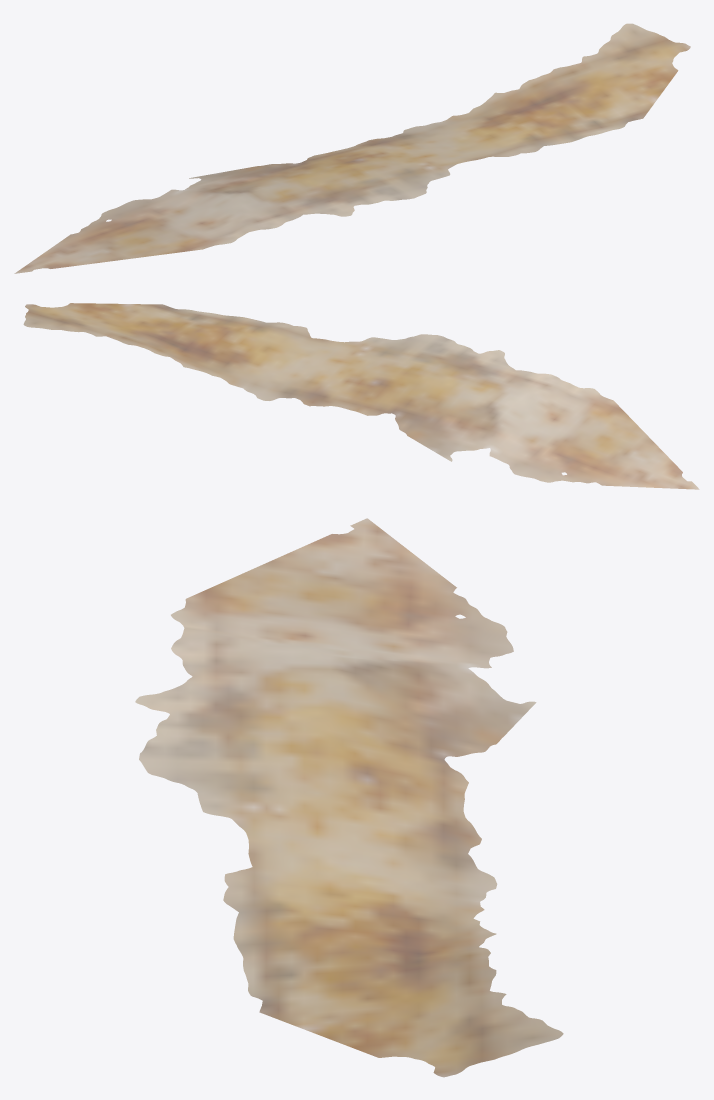
The model's file is SM_Paper_005.fbx.
3 renders of one model, top to bottom at view 1: azimuth 30°, elevation 25°; view 2: azimuth 150°, elevation 25°; view 3: azimuth 270°, elevation 25°, orthographic. The views are drawn at different scales.
Visible parts, largest first — view 1: SM_Paper_005; view 2: SM_Paper_005; view 3: SM_Paper_005.
Boxes of the visible parts, left/top/right/bottom form: SM_Paper_005: left=14, top=23, right=690, bottom=273; SM_Paper_005: left=23, top=303, right=699, bottom=489; SM_Paper_005: left=135, top=518, right=563, bottom=1077.
Size of the model in its own units: 21.73 by 6.79 by 1.53.
Materials: 1 (1 with a texture image).
